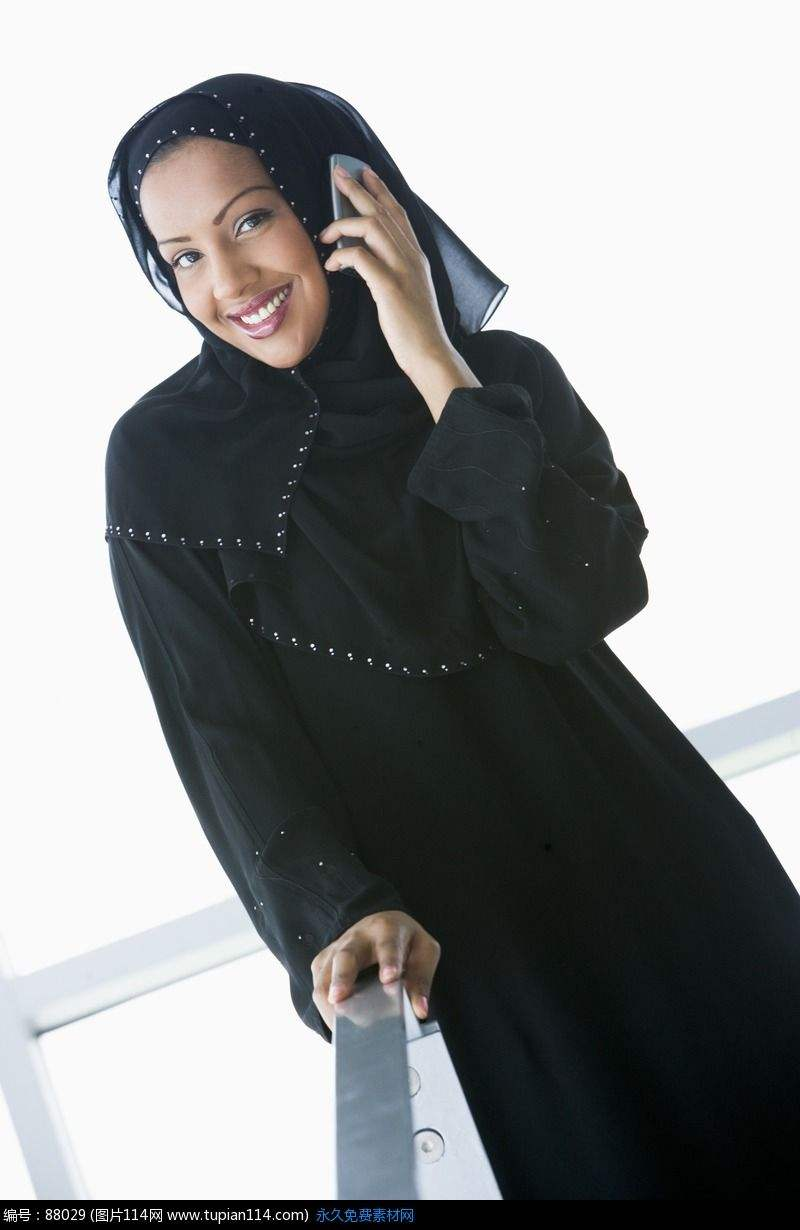phone: (324, 153, 408, 314)
talk: (150, 138, 442, 366)
